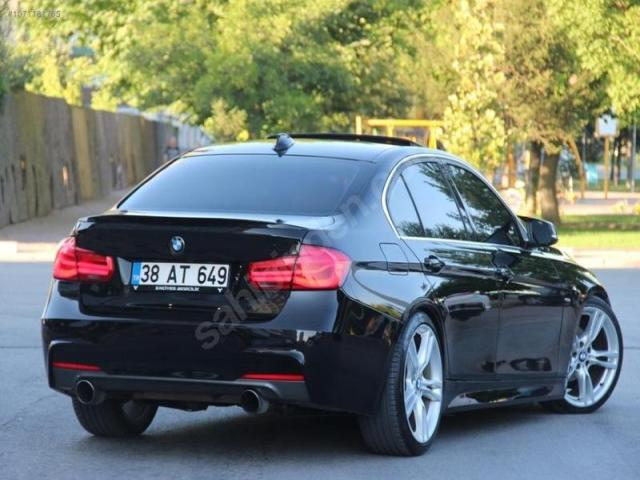plaka: (130, 262, 229, 288)
